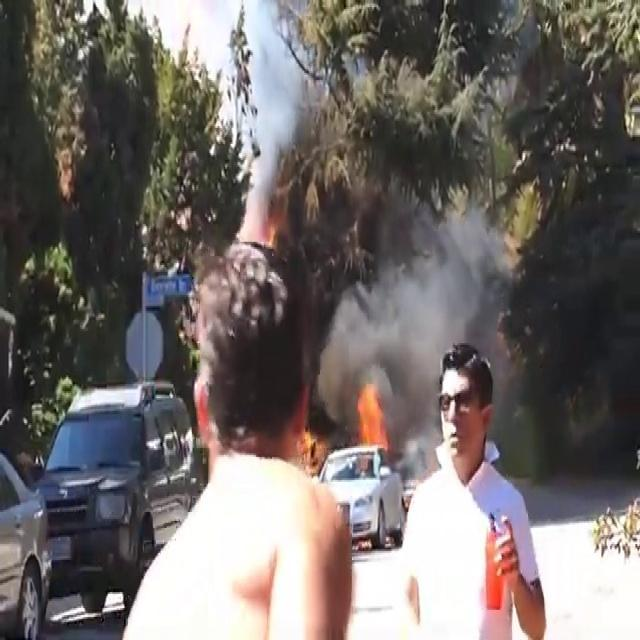Fire: (350, 377, 392, 459)
Smoke: (326, 204, 524, 447)
